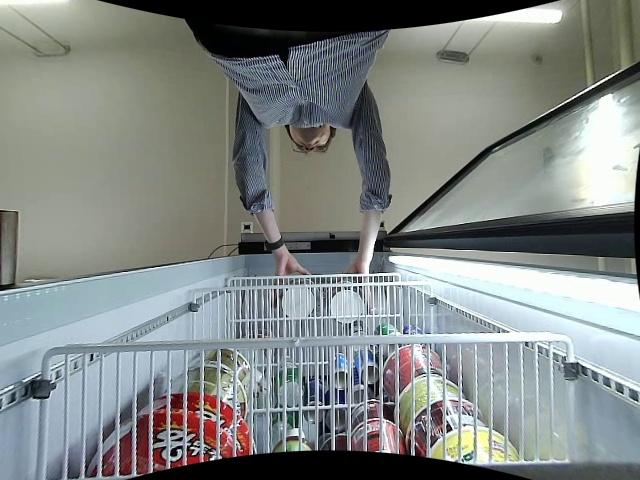00_hand: (339, 259, 371, 296), (272, 260, 314, 285)
